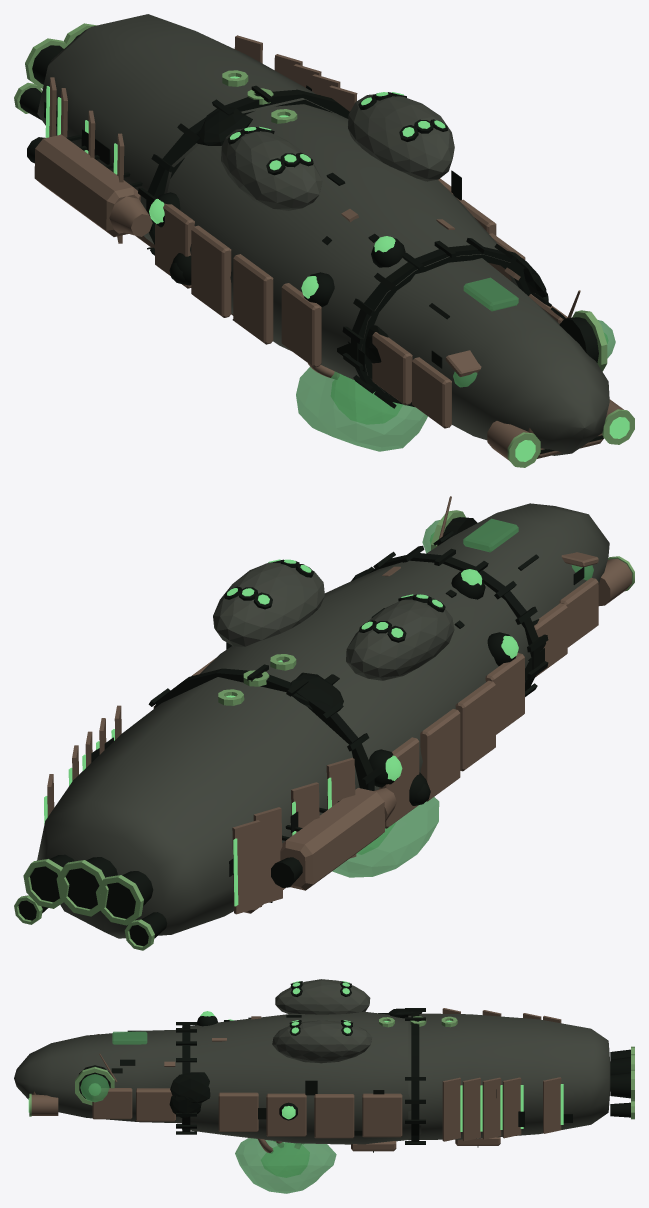
File: zrost-szczepieni-coalition-38-lod0.glb
3 renders of one model, top to bottom at view 1: azimuth 30°, elevation 25°; view 2: azimuth 150°, elevation 25°; view 3: azimuth 270°, elevation 25°, orthographic. The views are drawn at different scales.
Bounding box in the file's own units: 20.53 × 21.87 × 66.67.
